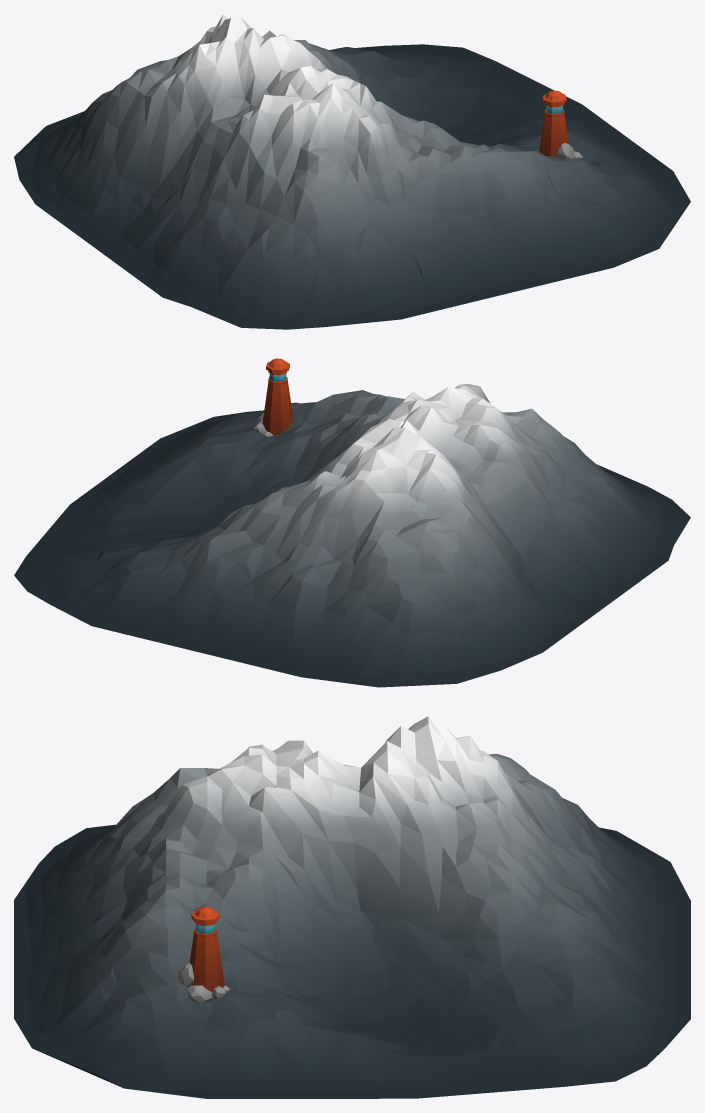
The model's file is Light_house_island.fbx.
3 renders of one model, top to bottom at view 1: azimuth 30°, elevation 25°; view 2: azimuth 150°, elevation 25°; view 3: azimuth 270°, elevation 25°, orthographic. The views are drawn at different scales.
Visible parts, largest first — view 1: Light_house_island; view 2: Light_house_island; view 3: Light_house_island.
Part boxes in pixels (bbox=[...]): Light_house_island: bbox=[14, 14, 690, 329]; Light_house_island: bbox=[14, 358, 690, 687]; Light_house_island: bbox=[14, 716, 690, 1098].
Size of what is drawn, in the model's own units: 7538 by 2335 by 7538.
